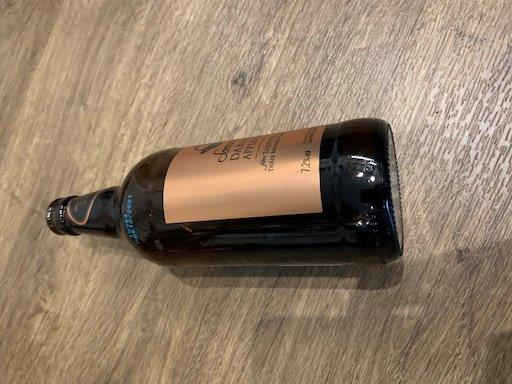botolkaca: (46, 118, 404, 264)
